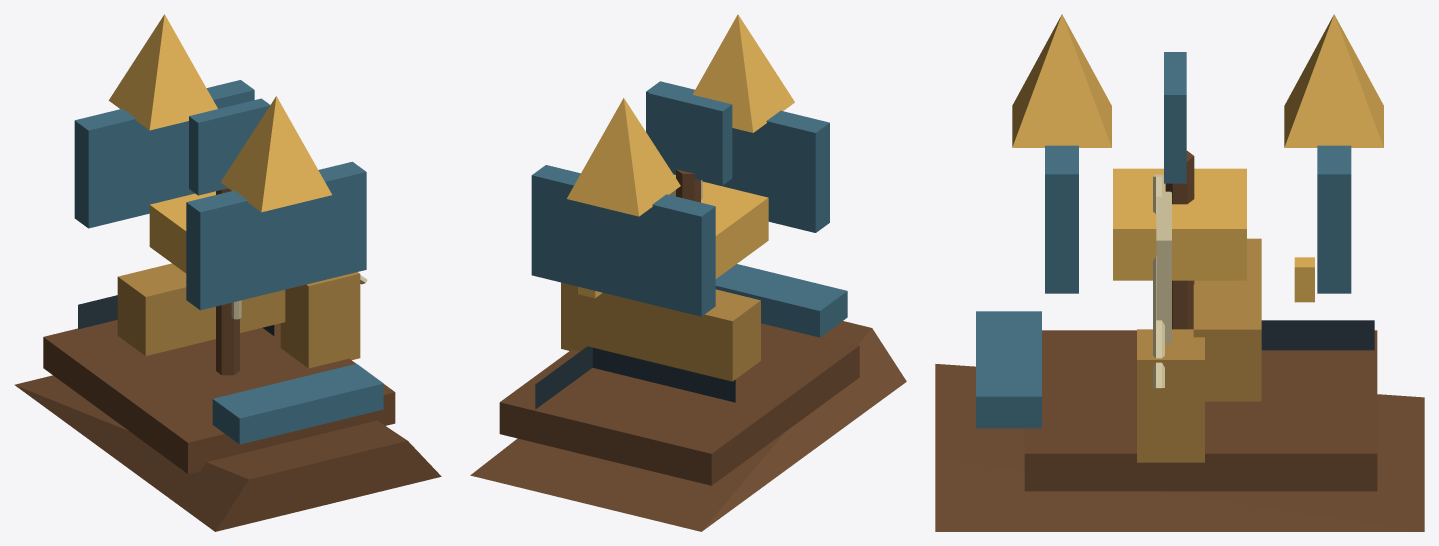
File: legendary-warship.obj
3 views of the same model, side by side, from view 1: azimuth 30°, elevation 25°; view 2: azimuth 150°, elevation 25°; view 3: azimuth 270°, elevation 25° (orthographic). The views are drawn at different scales.
Parts seen in each view (by area): view 1: ship; view 2: ship; view 3: ship.
Boxes of the visible parts, x1,y1,x2,y2 form: ship: [14, 14, 441, 531]; ship: [470, 14, 906, 531]; ship: [935, 14, 1424, 531].
Bounding box in the file's own units: 1.51 × 2.19 × 2.16.
